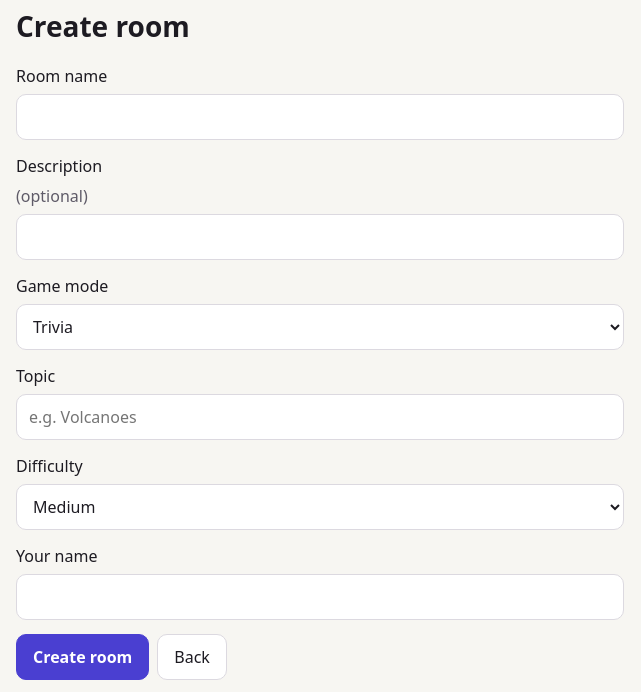
Test: shows a server 422
Type "Friday" into the field labelled "Room name". click: {"x": 320, "y": 117}
box: left=16, top=94, right=624, bottom=140
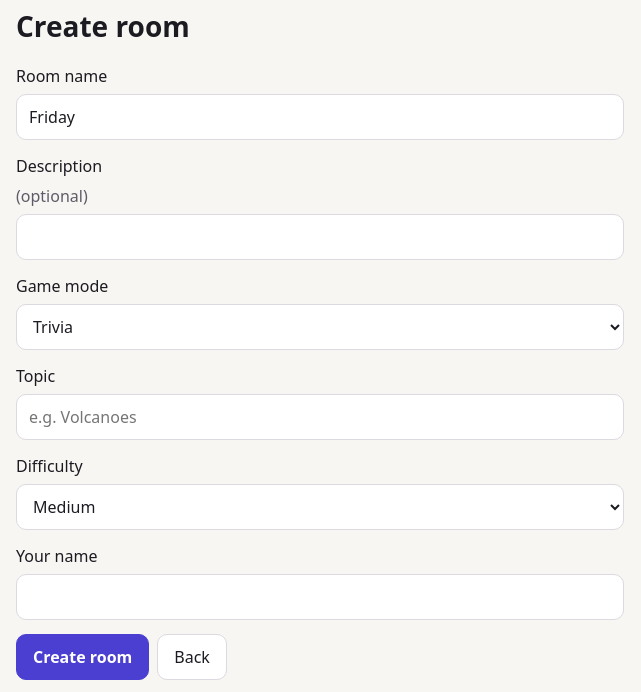
Type "Volcanoes" into the field labelled "Topic". click: {"x": 320, "y": 417}
box: left=16, top=394, right=624, bottom=440
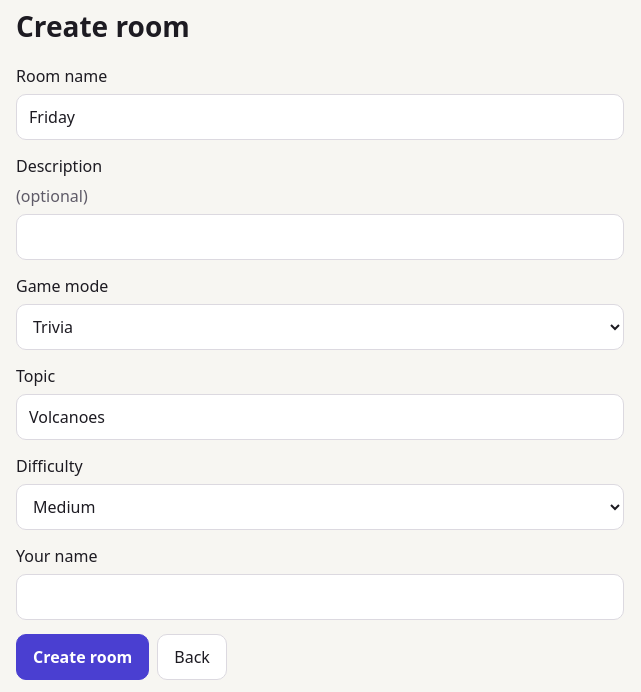
Type "ann" into the field labelled "Your name". click: {"x": 320, "y": 597}
box: left=16, top=574, right=624, bottom=620
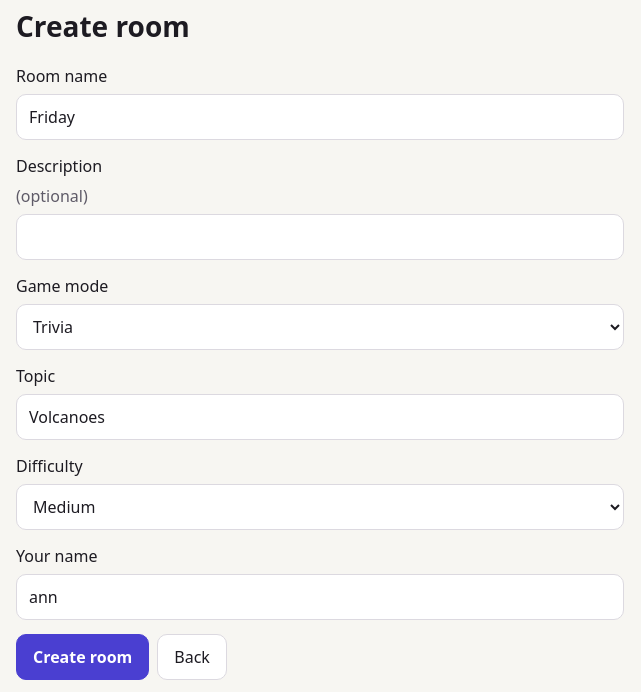
Click the button "Create room". click: {"x": 83, "y": 657}
box: left=16, top=634, right=149, bottom=680
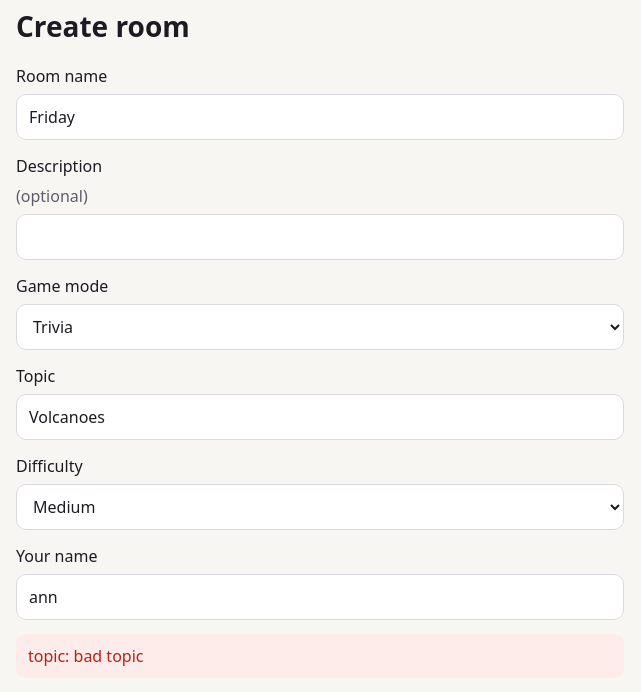
Result: the message reads "topic: bad topic" at left=28, top=645, right=144, bottom=667
